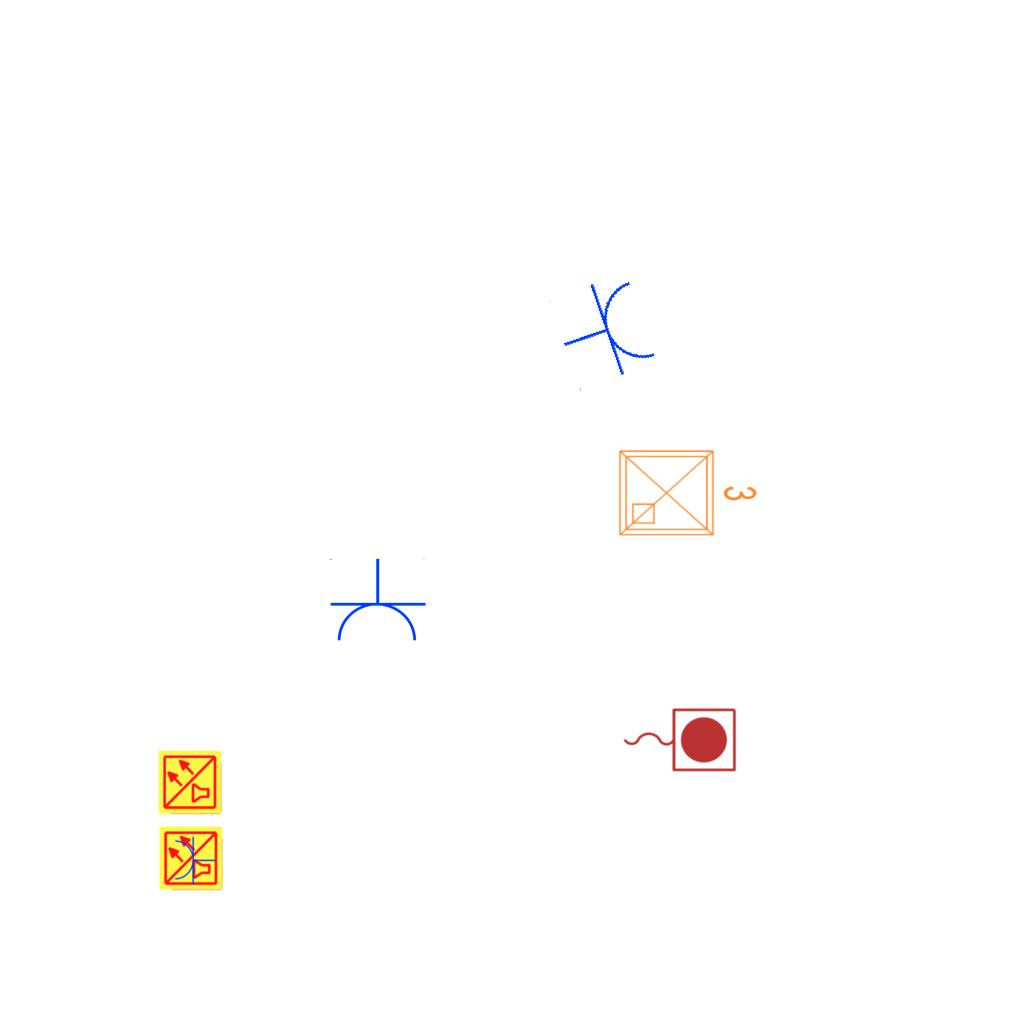Einbaudownlights_LED_Konferenzraeume: (612, 439, 762, 543)
OKW_Multisensormelder_(Kombination_optischer_Rauch-Kahlenmonoxid_Waerme-Melder): (157, 749, 223, 815), (158, 825, 224, 891)
Schukosteckdose_einfach: (547, 270, 663, 393), (327, 558, 427, 645), (173, 835, 216, 885)
Zugtaster: (618, 703, 740, 775)
